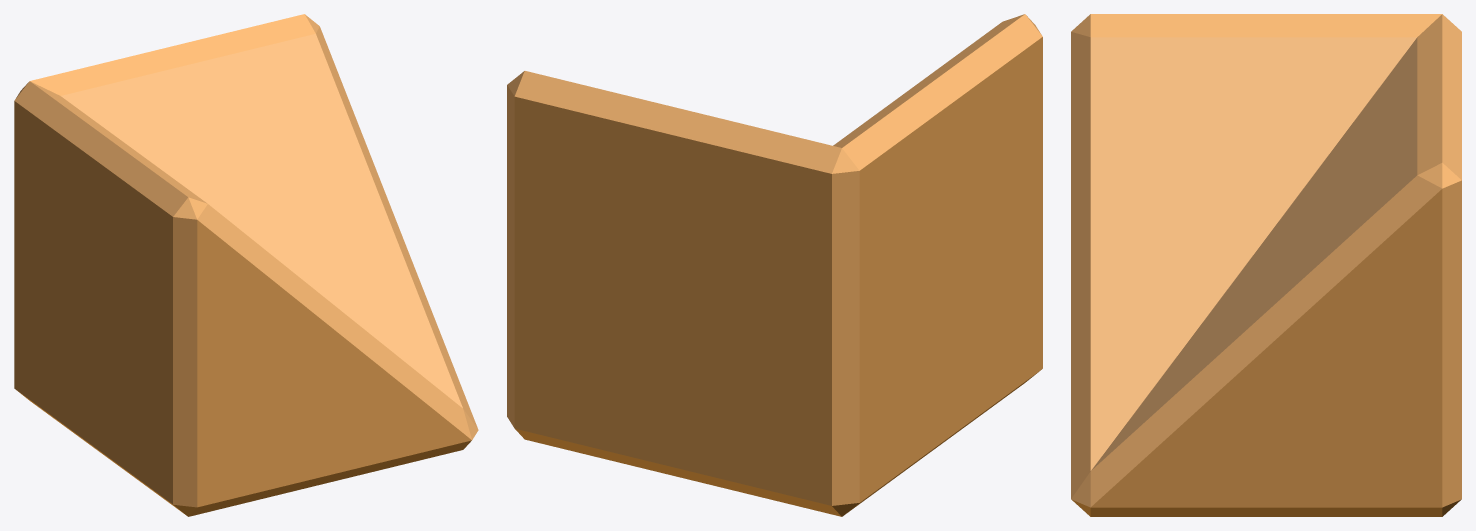
File: m_kub_diagonalClay_cornerIn.FBX
3 renders of one model, left to right at view 1: azimuth 30°, elevation 25°; view 2: azimuth 150°, elevation 25°; view 3: azimuth 270°, elevation 25°, orthographic. The views are drawn at different scales.
Visible parts, largest first — view 1: m_kub_diagonalClay_cornerIn; view 2: m_kub_diagonalClay_cornerIn; view 3: m_kub_diagonalClay_cornerIn.
Part boxes in pixels (x1,y1,x2,y2): m_kub_diagonalClay_cornerIn: [14, 14, 478, 516]; m_kub_diagonalClay_cornerIn: [507, 14, 1042, 516]; m_kub_diagonalClay_cornerIn: [1071, 14, 1461, 516].
Bounding box in the file's own units: 2 × 2 × 2.
